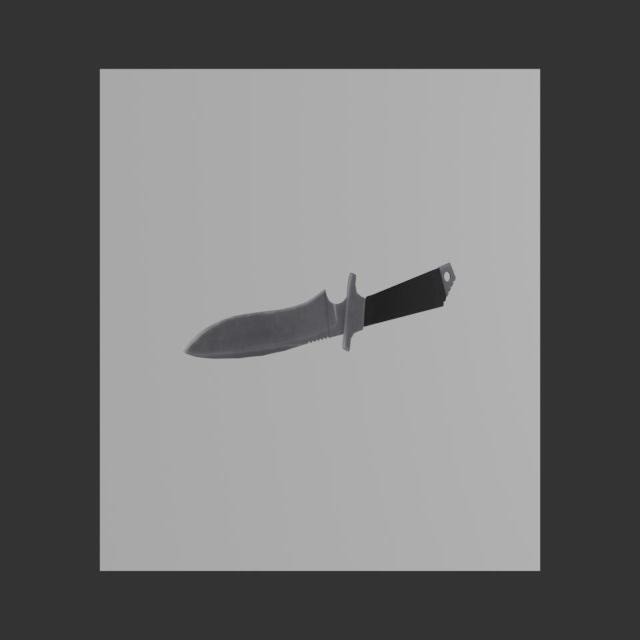knife: (364, 262, 456, 326)
